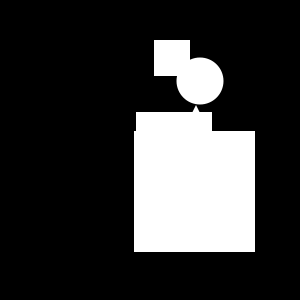circle: (134, 131, 255, 252), (136, 112, 212, 188), (154, 40, 190, 76)
rectangle: (176, 58, 224, 105)
triangle: (190, 105, 202, 117)
